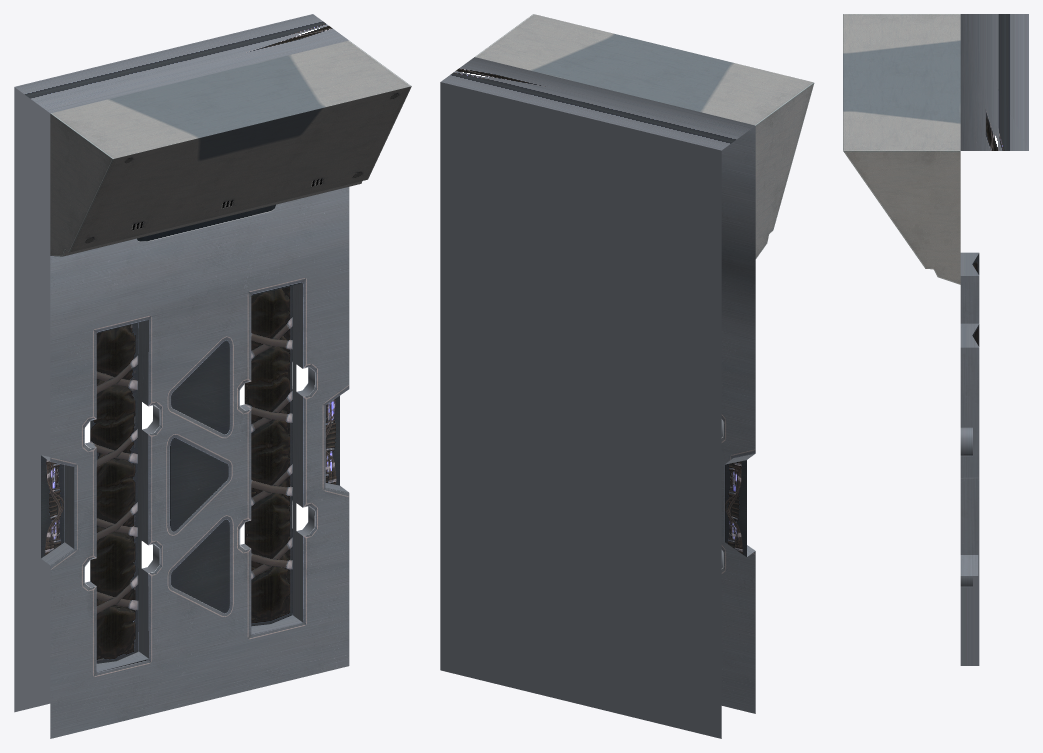
File: DS_SM017_Scifi_Room_Wall2M_01.fbx
The picture shows the model from 3 angles, left to right: view 1: azimuth 30°, elevation 25°; view 2: azimuth 150°, elevation 25°; view 3: azimuth 270°, elevation 25°; orthographic projection. The views are drawn at different scales.
Visible parts, largest first — view 1: DS_SM017_Scifi_Room_Wall2M_01; view 2: DS_SM017_Scifi_Room_Wall2M_01; view 3: DS_SM017_Scifi_Room_Wall2M_01.
Boxes of the visible parts, <box> form: DS_SM017_Scifi_Room_Wall2M_01: <box>14,14,411,738</box>; DS_SM017_Scifi_Room_Wall2M_01: <box>440,14,814,738</box>; DS_SM017_Scifi_Room_Wall2M_01: <box>843,14,1028,665</box>.
Bounding box in the file's own units: 400 × 800 × 229.
